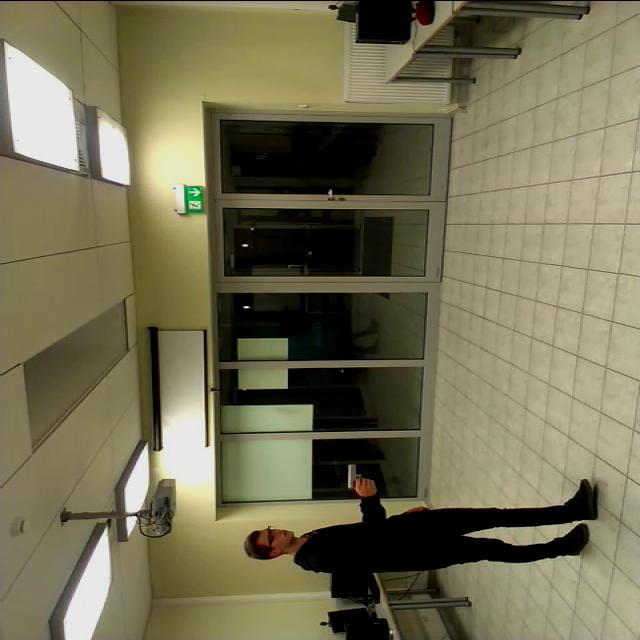handgun: (334, 461, 382, 495)
